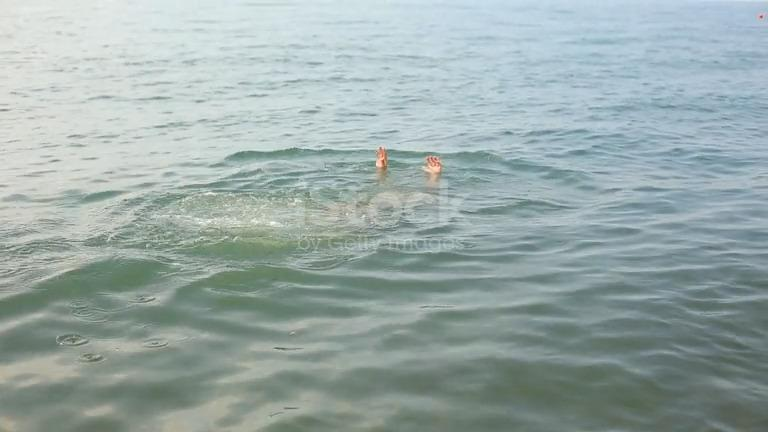Drowning: (210, 88, 482, 263)
